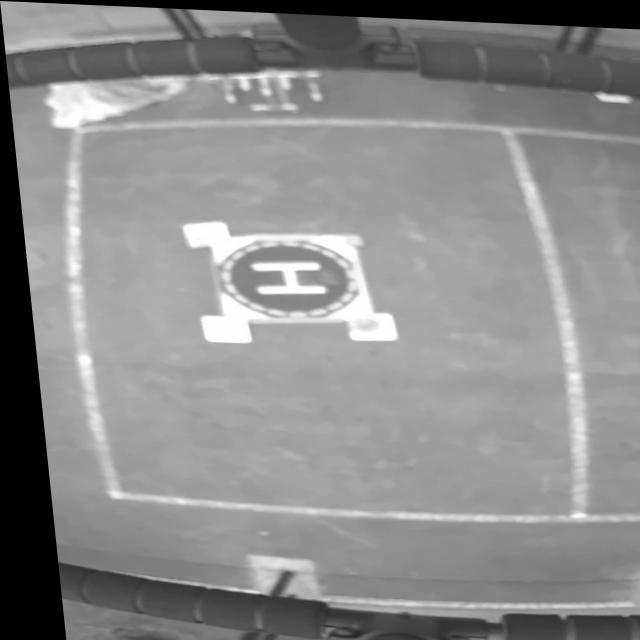Helipad: (245, 258, 323, 292)
